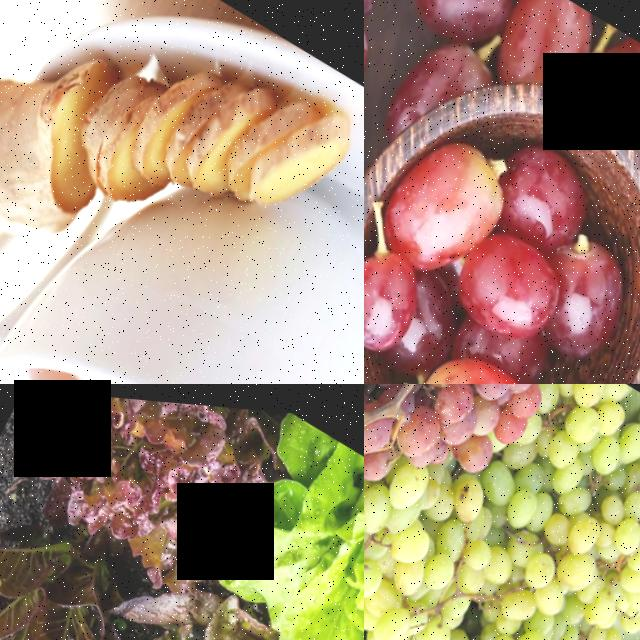ginger: (0, 0, 123, 263)
grapes: (364, 72, 640, 384), (364, 0, 492, 384), (364, 435, 520, 640), (421, 497, 640, 640), (364, 384, 580, 520), (501, 384, 640, 569), (364, 384, 443, 577)
lettuce: (173, 397, 364, 640)
